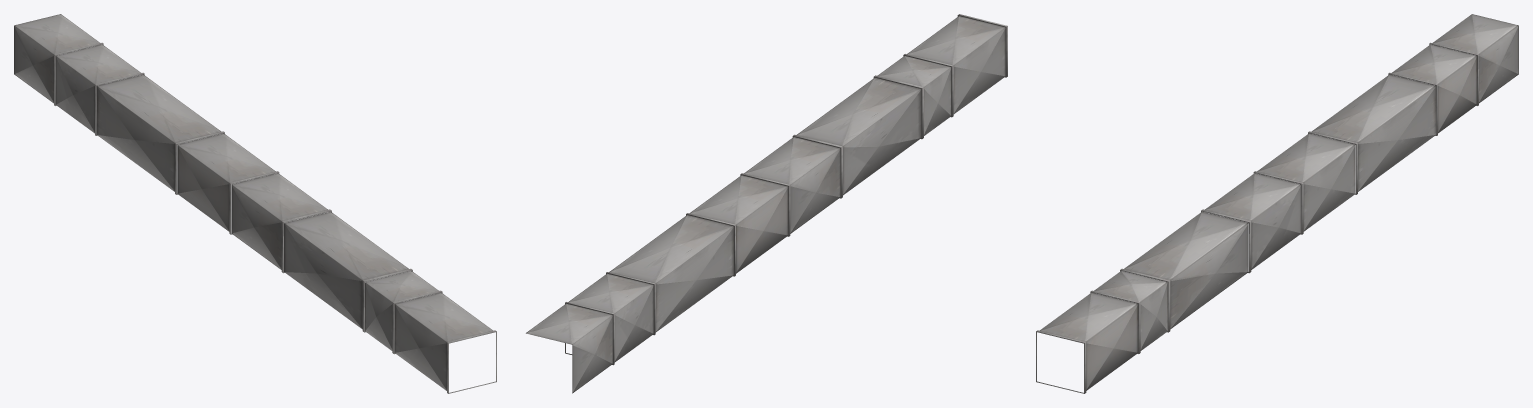
The picture shows the model from 3 angles, left to right: view 1: azimuth 30°, elevation 25°; view 2: azimuth 150°, elevation 25°; view 3: azimuth 330°, elevation 25°; orthographic projection.
Visible parts, largest first — view 1: body0_model0_lod0_mesh0; view 2: body0_model0_lod0_mesh0; view 3: body0_model0_lod0_mesh0.
Boxes of the visible parts, bbox=[...] form: body0_model0_lod0_mesh0: bbox=[14, 14, 496, 393]; body0_model0_lod0_mesh0: bbox=[526, 14, 1007, 393]; body0_model0_lod0_mesh0: bbox=[1036, 14, 1518, 393].
Size of the model in its own units: 34.5 by 34.5 by 512.
1 material, 1 textured.
